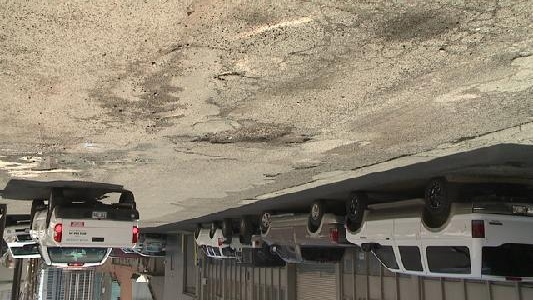pothole: (191, 124, 290, 147), (285, 131, 314, 147), (26, 164, 61, 175)
